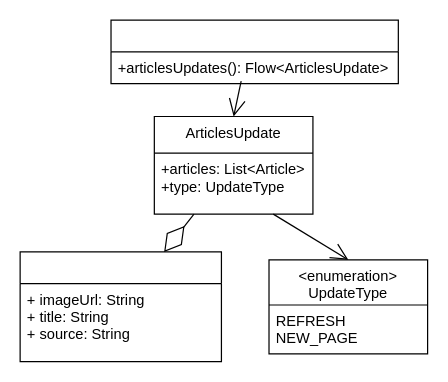
This 448x382 diagram has some shape labels left out. The shapes that lost their labels are listed below. From the top down, each one's box as (x1, y1, x2, y2) in pixels, then its label:
(110, 19, 398, 84): ArticlesViewModel
(19, 251, 221, 362): Article
